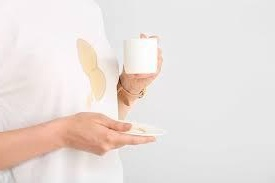coffee: (80, 43, 105, 100)
